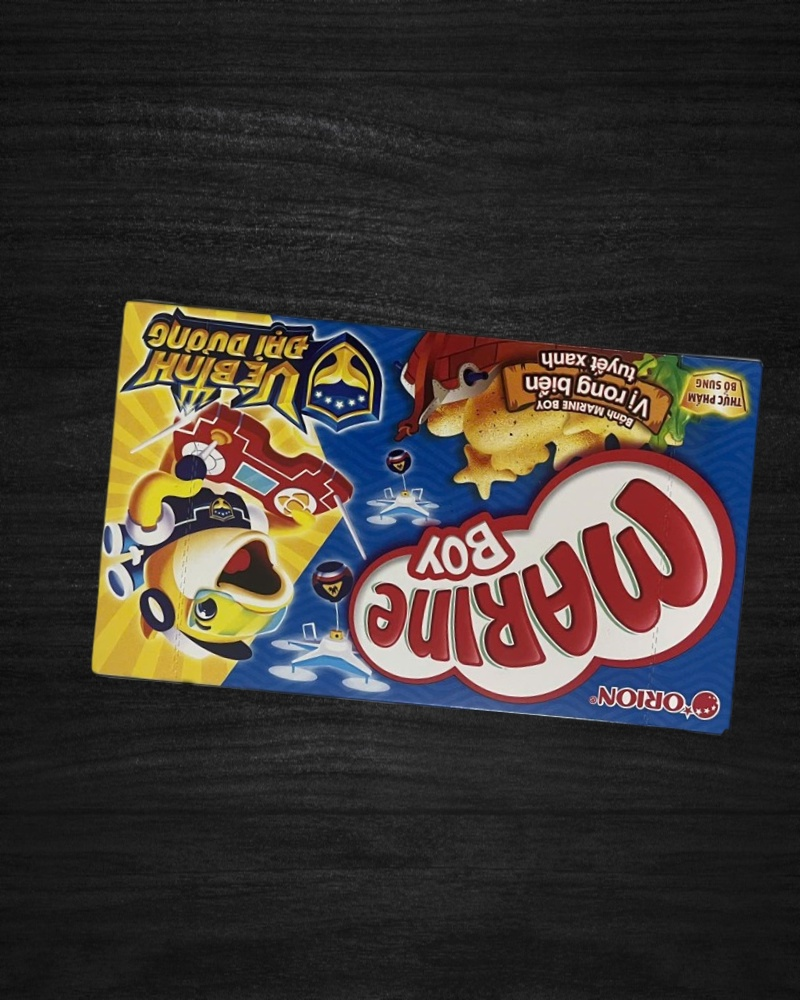Marine: (89, 299, 765, 736)
